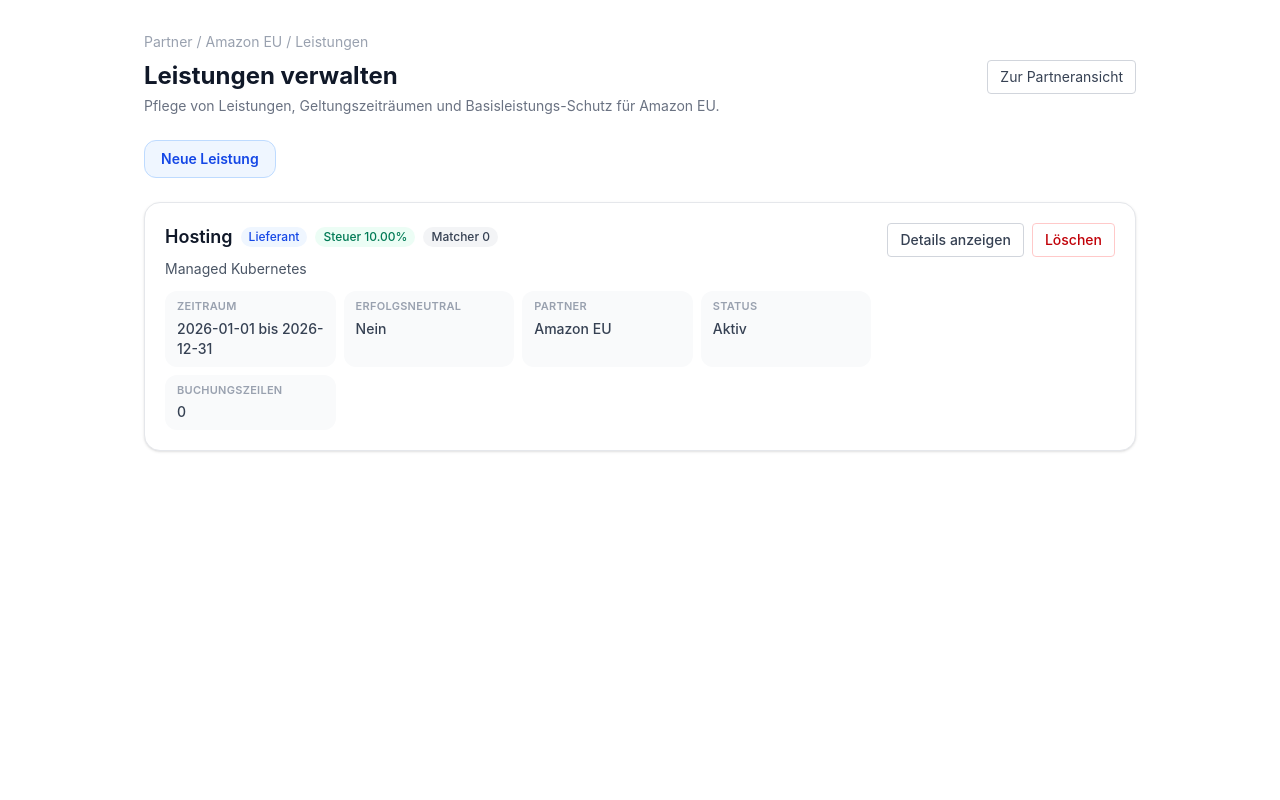
Test: ServiceManagementPage › allows clearing service validity dates back to always valid
expect the heading "Hosting" is shown: met, box [165,223,233,251]
Step 1. Click the button with aria-label "Hosting Details anzeigen" → {"x": 956, "y": 240}, box [888,223,1024,257]
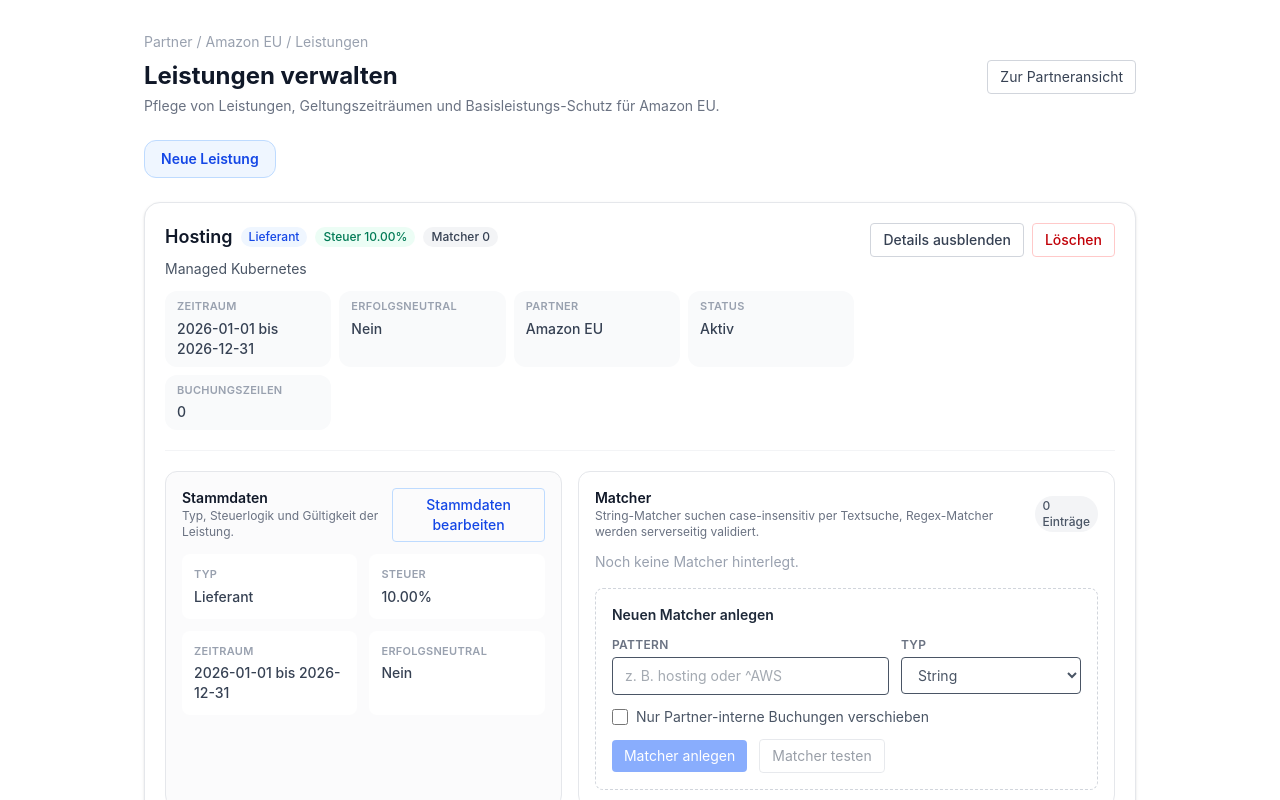
Step 2. Click the button "Stammdaten bearbeiten" → {"x": 469, "y": 515}, box [392,488,545,542]
(page scrolled)
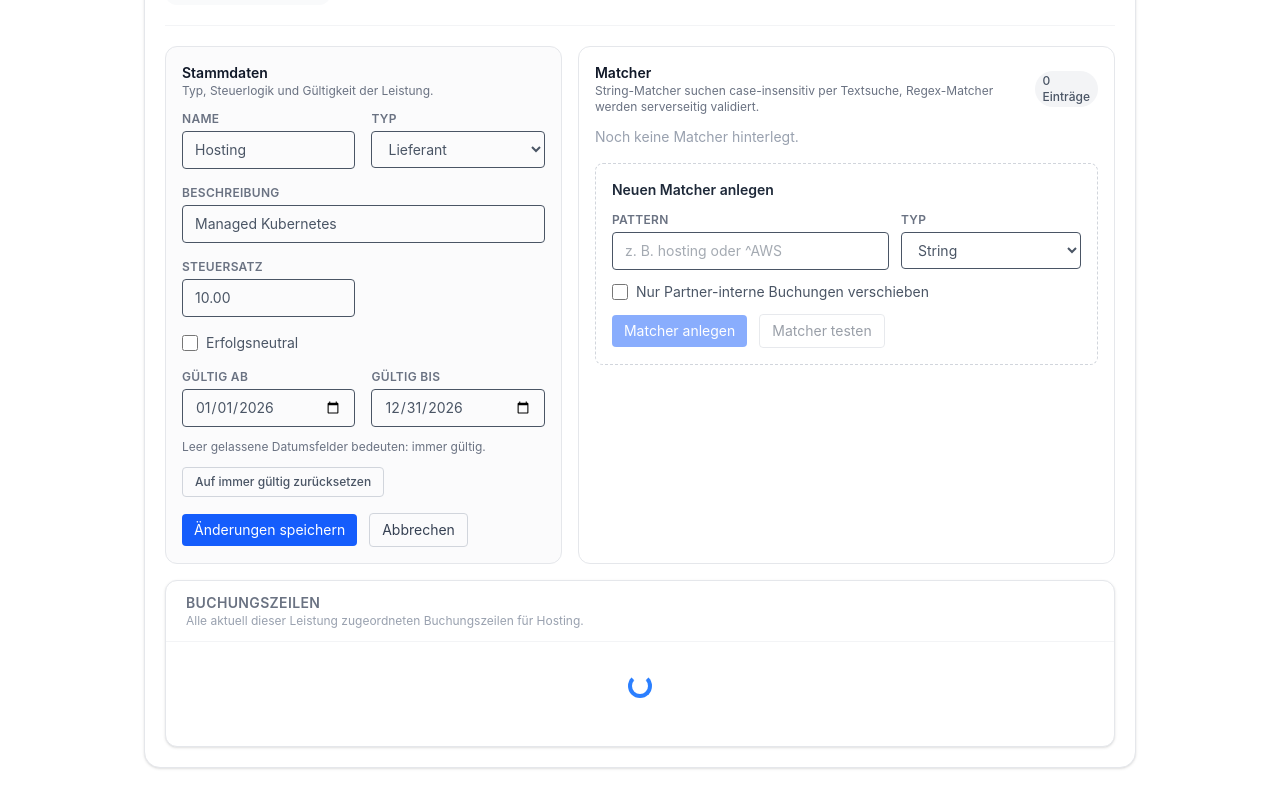
Step 3. Click the button "Auf immer gültig zurücksetzen" → {"x": 283, "y": 482}, box [182,467,384,497]
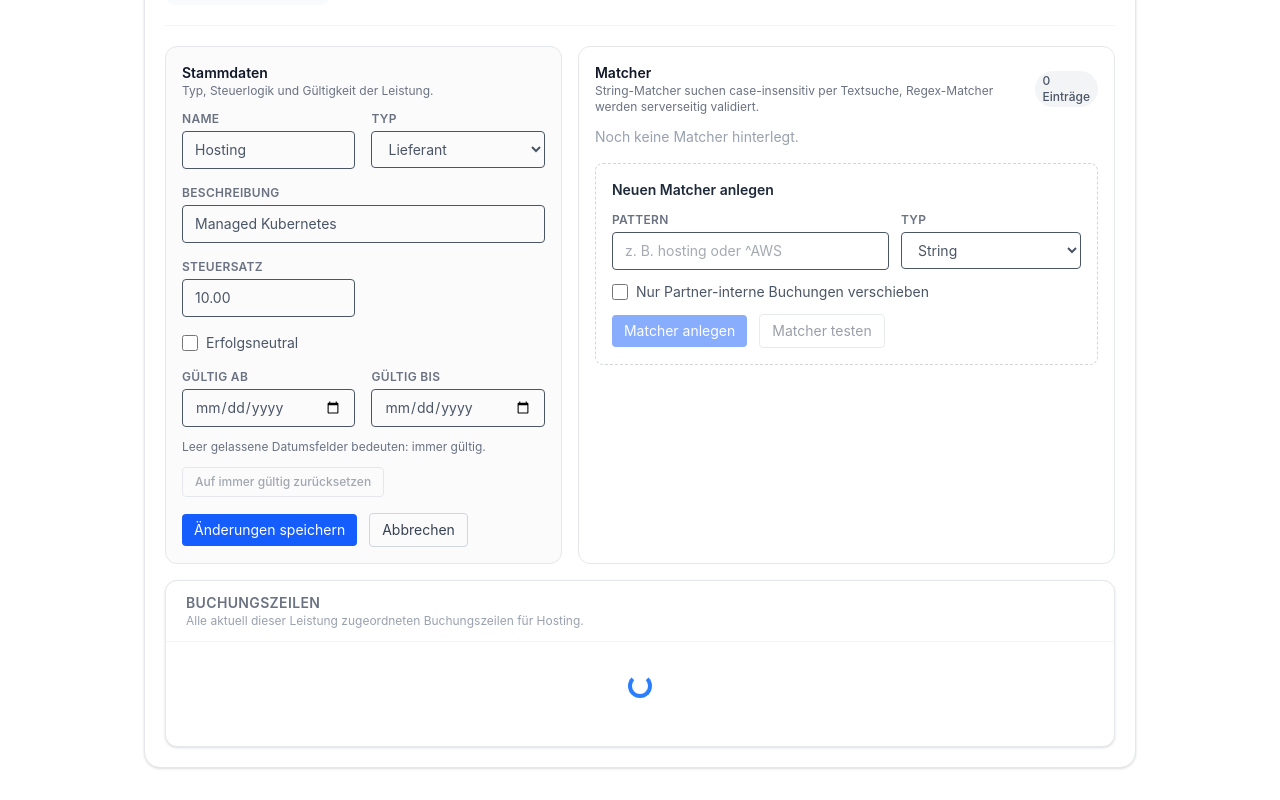
Step 4. Click the button "Änderungen speichern" → {"x": 270, "y": 530}, box [182,514,357,546]
(page scrolled)
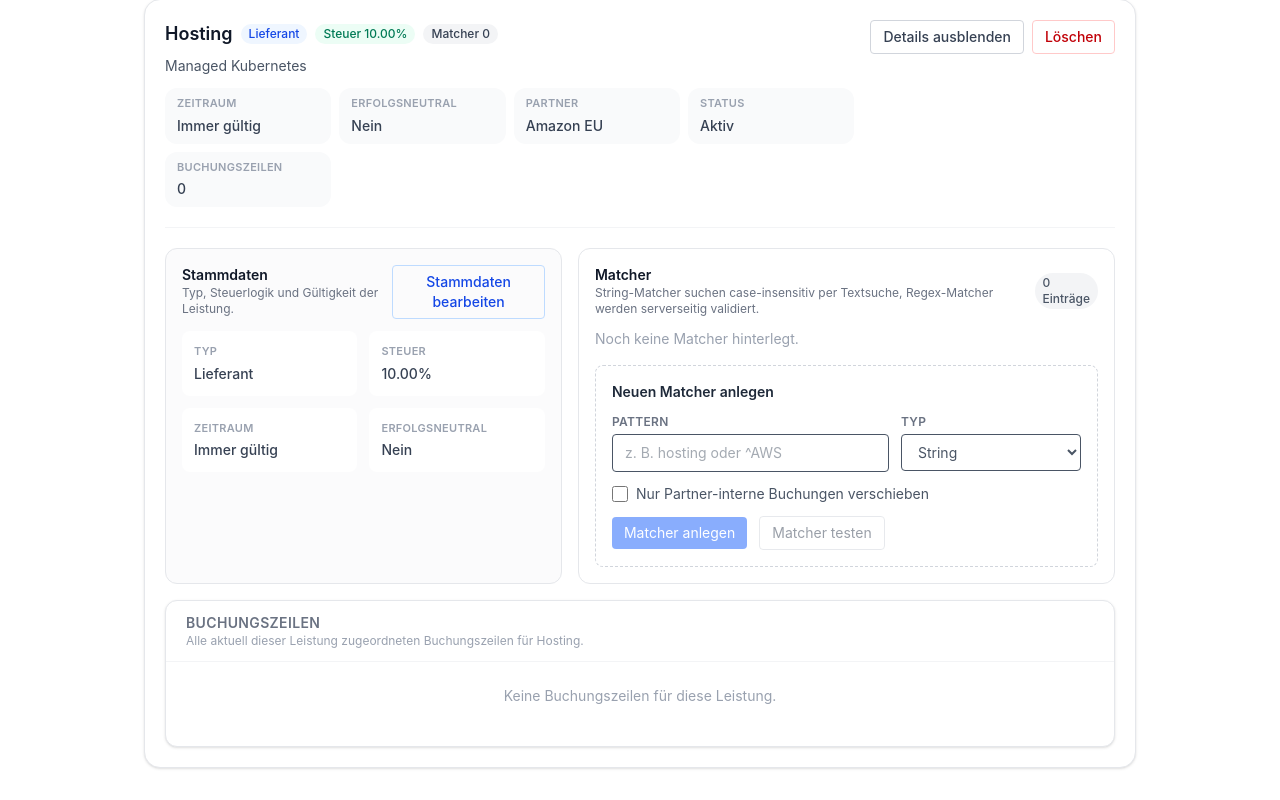
expect the text "Immer gültig" in the row of "Aktiv" is shown: met, box [177,117,261,134]
